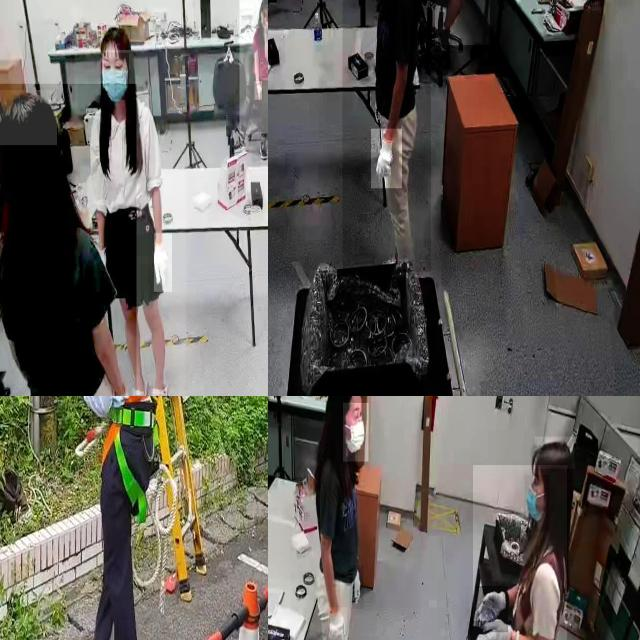Harness: (97, 396, 160, 558)
face_mask: (343, 403, 369, 461), (525, 475, 549, 532), (104, 52, 129, 100)
face_nomask: (260, 9, 268, 25)
hand_glove: (371, 129, 403, 189), (476, 586, 508, 632), (154, 233, 172, 293), (472, 620, 511, 640), (328, 607, 348, 640), (350, 566, 364, 610)
hand_noglove: (255, 81, 262, 101), (262, 18, 268, 31)
head_nohelmet: (0, 90, 57, 146), (535, 436, 575, 469), (98, 25, 132, 51), (258, 0, 268, 5)
person: (0, 83, 137, 396), (74, 22, 185, 396), (342, 0, 431, 273), (472, 465, 567, 640), (312, 396, 376, 640), (239, 0, 268, 134), (435, 0, 490, 45)
shoes: (257, 138, 268, 161)
